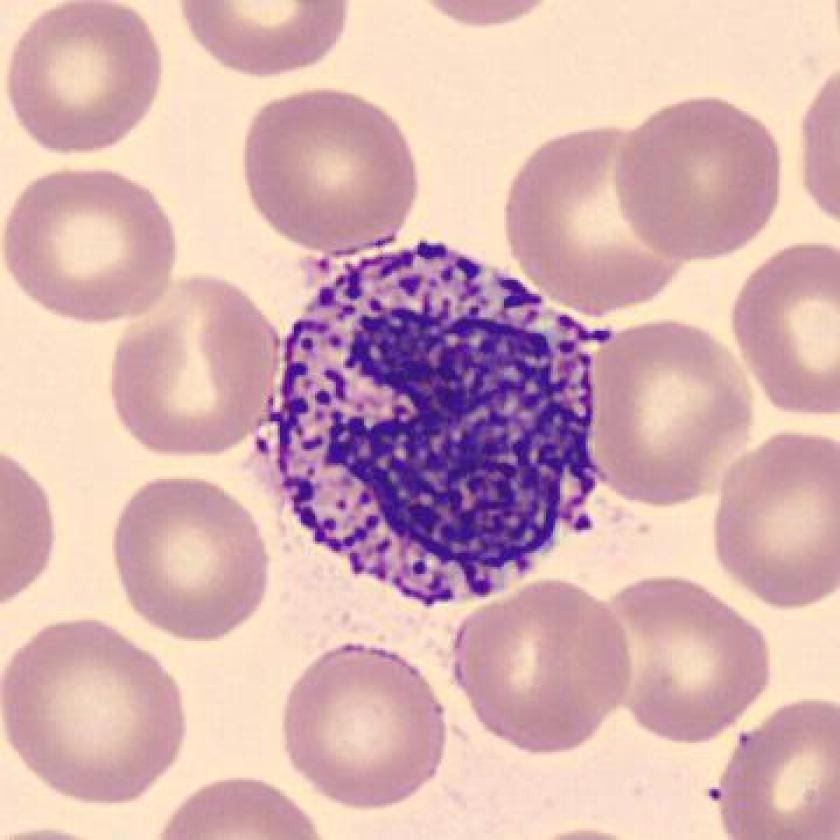basophil: (258, 230, 615, 607)
